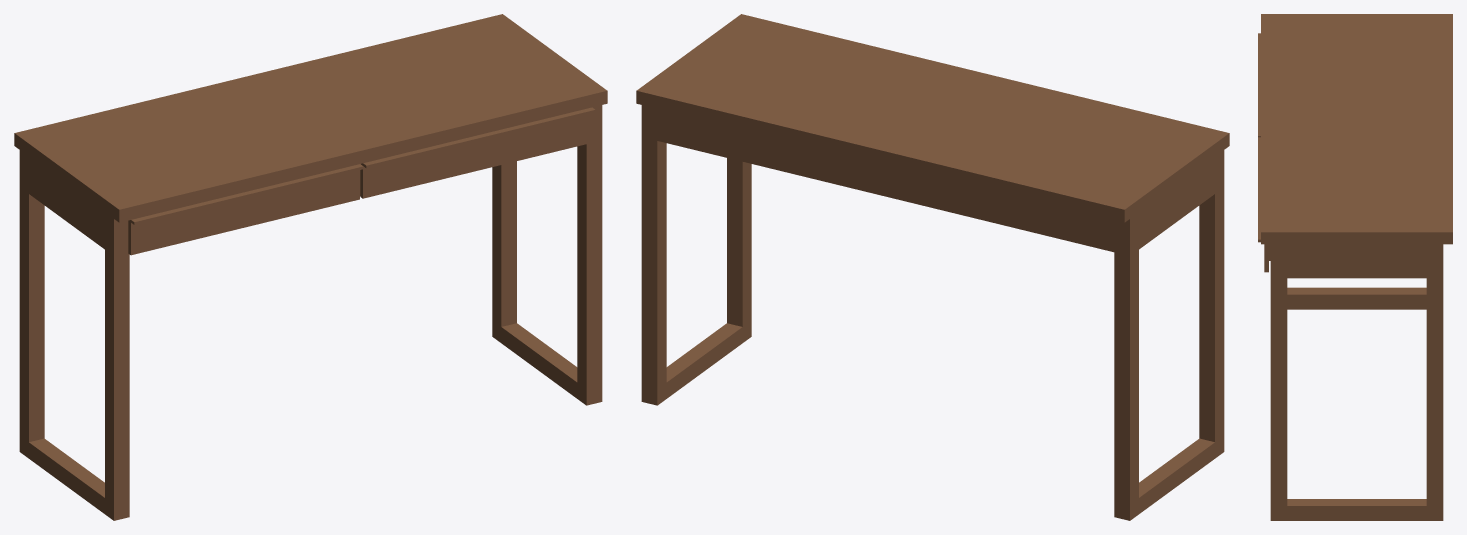
File: desk3.fbx
3 renders of one model, left to right at view 1: azimuth 30°, elevation 25°; view 2: azimuth 150°, elevation 25°; view 3: azimuth 270°, elevation 25°, orthographic. The views are drawn at different scales.
Visible parts, largest first — view 1: desk3; view 2: desk3; view 3: desk3.
Boxes of the visible parts, left/top/right/bottom form: desk3: left=14, top=14, right=607, bottom=520; desk3: left=636, top=14, right=1229, bottom=520; desk3: left=1258, top=14, right=1452, bottom=520.
Bounding box in the file's own units: 120 × 74 × 45.3.
